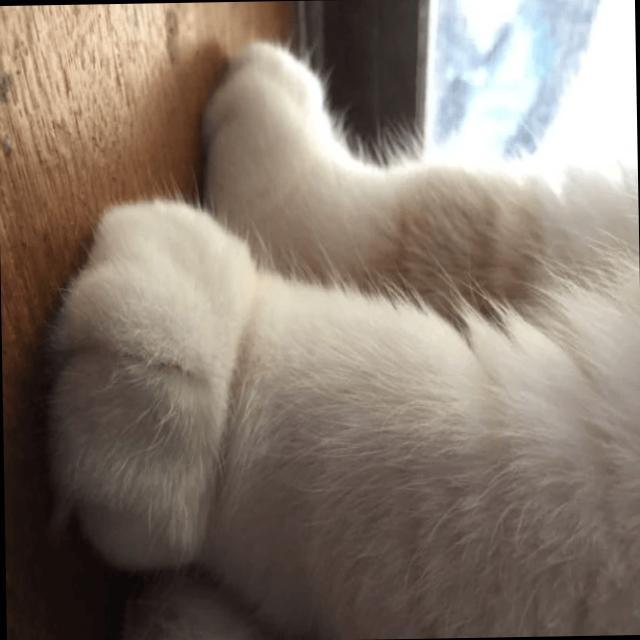Healthy skin: (251, 341, 638, 624), (294, 178, 604, 308), (94, 267, 209, 509), (232, 59, 310, 148)
